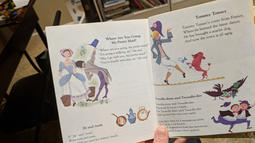text block: (150, 89, 216, 135), (177, 9, 250, 43), (99, 30, 150, 66), (62, 119, 120, 142)
